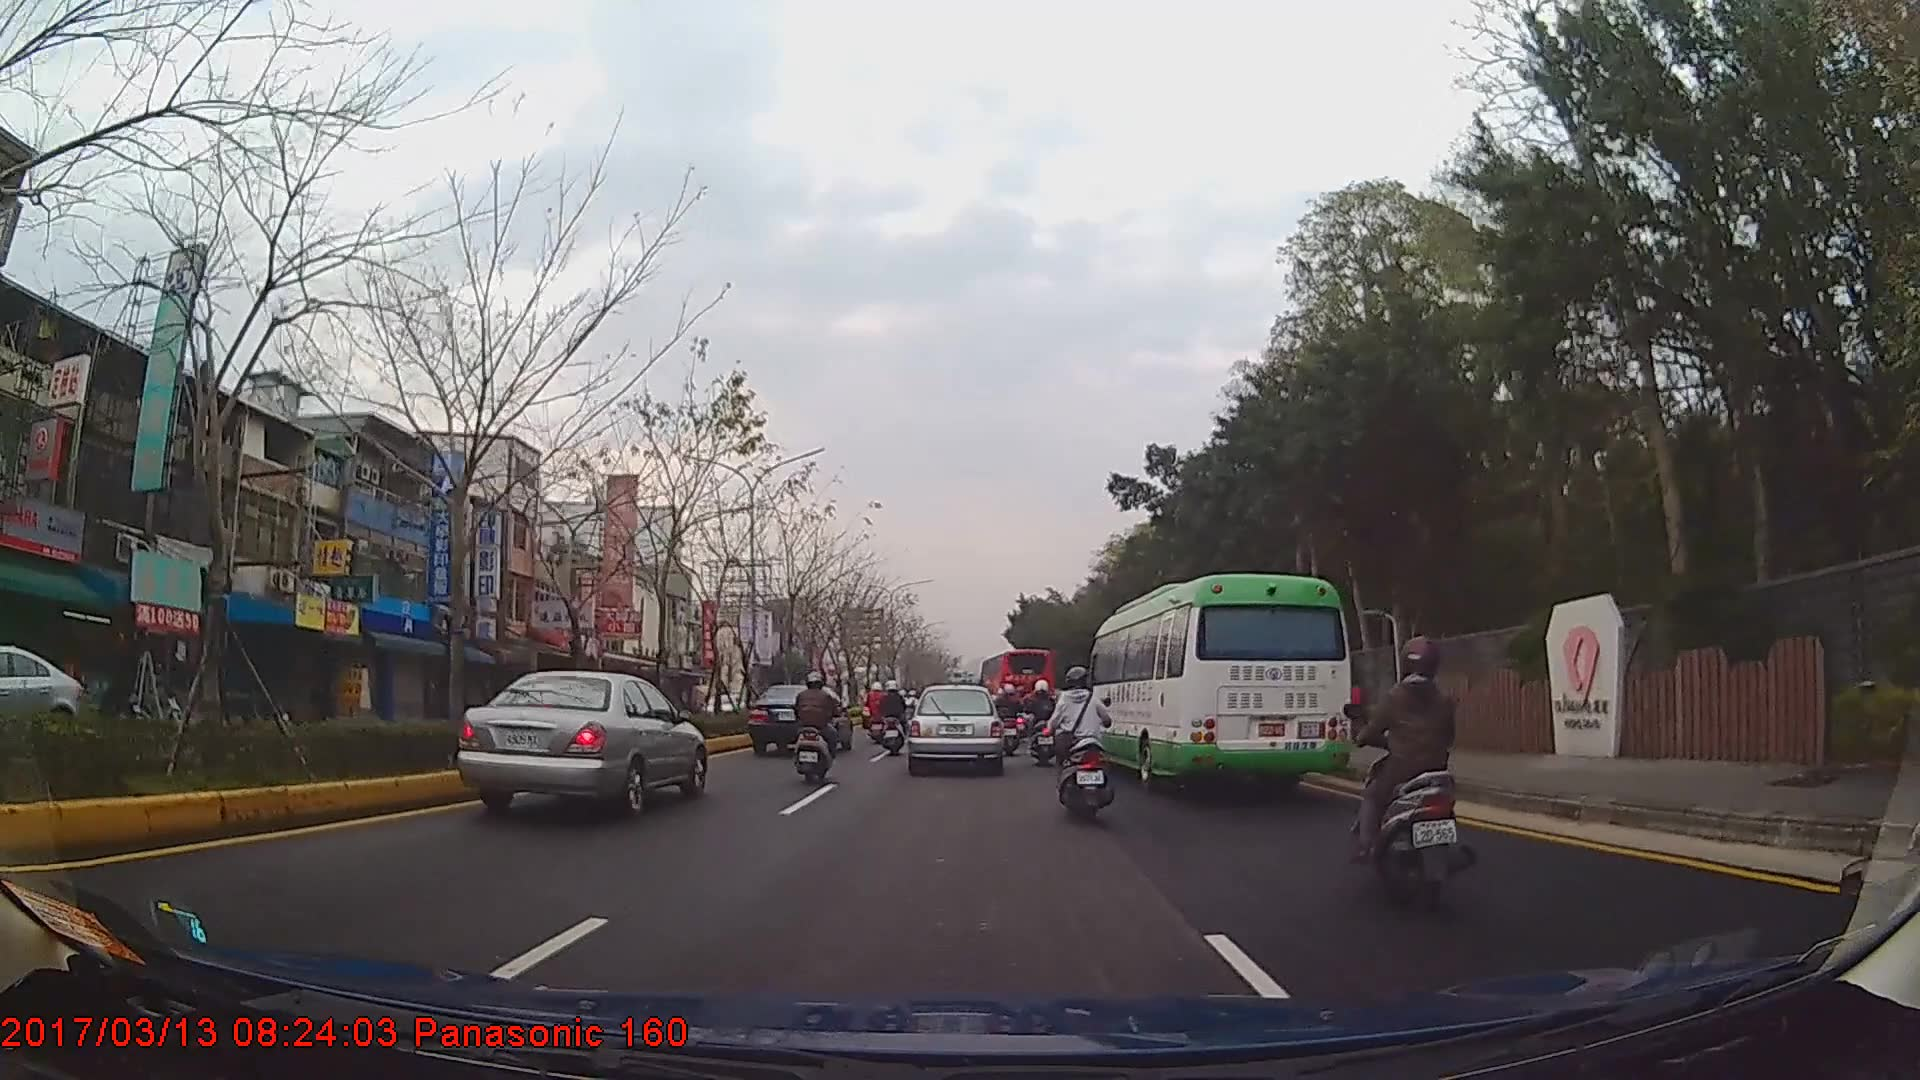rider: (1339, 639, 1466, 903), (1051, 667, 1113, 824), (792, 672, 843, 785), (1025, 679, 1063, 765), (878, 681, 909, 758), (992, 683, 1023, 757), (867, 681, 890, 744), (903, 690, 923, 728)
vehicle: (1080, 572, 1352, 789), (453, 665, 707, 827), (0, 635, 86, 757), (906, 684, 1005, 774), (749, 682, 856, 756), (980, 646, 1053, 727)
